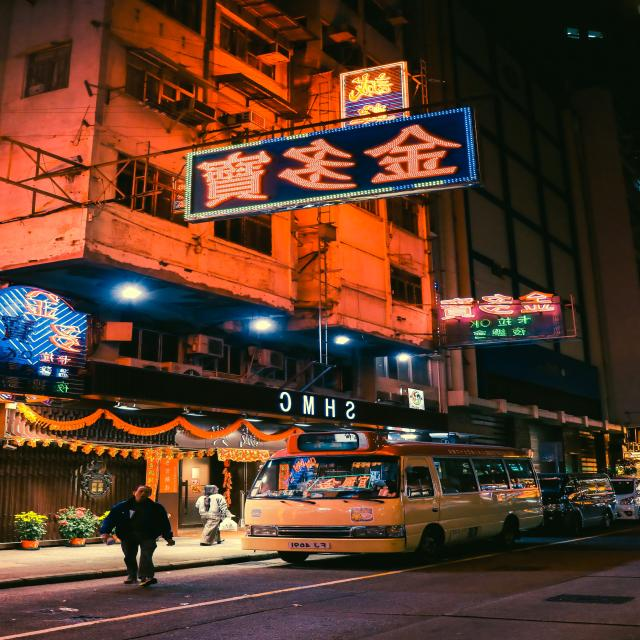adult: (101, 483, 177, 589), (193, 482, 233, 547)
